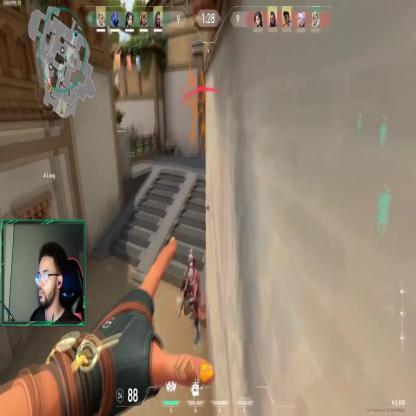enemy: (181, 268, 202, 342)
enemy_head: (188, 269, 194, 282)
